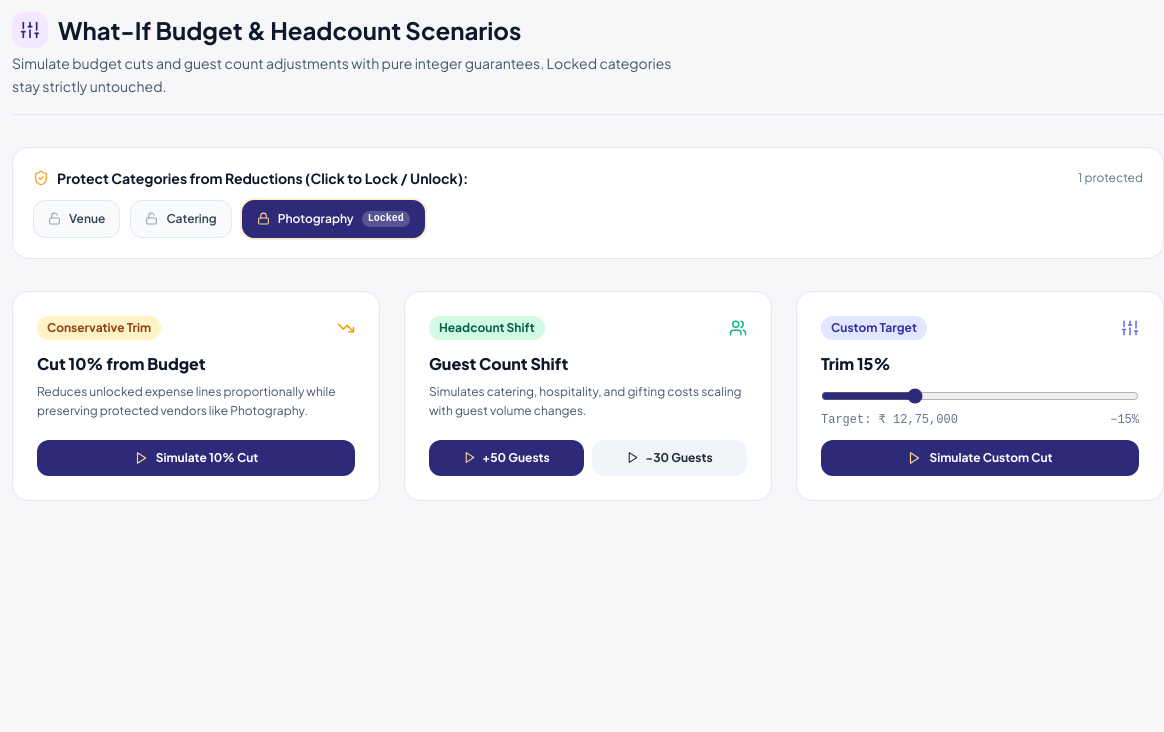
Test case: TabScenarios UI Component › toggles category lock when clicked
Step 1. Click the button "Venue" → (77, 218), box [33, 200, 120, 238]
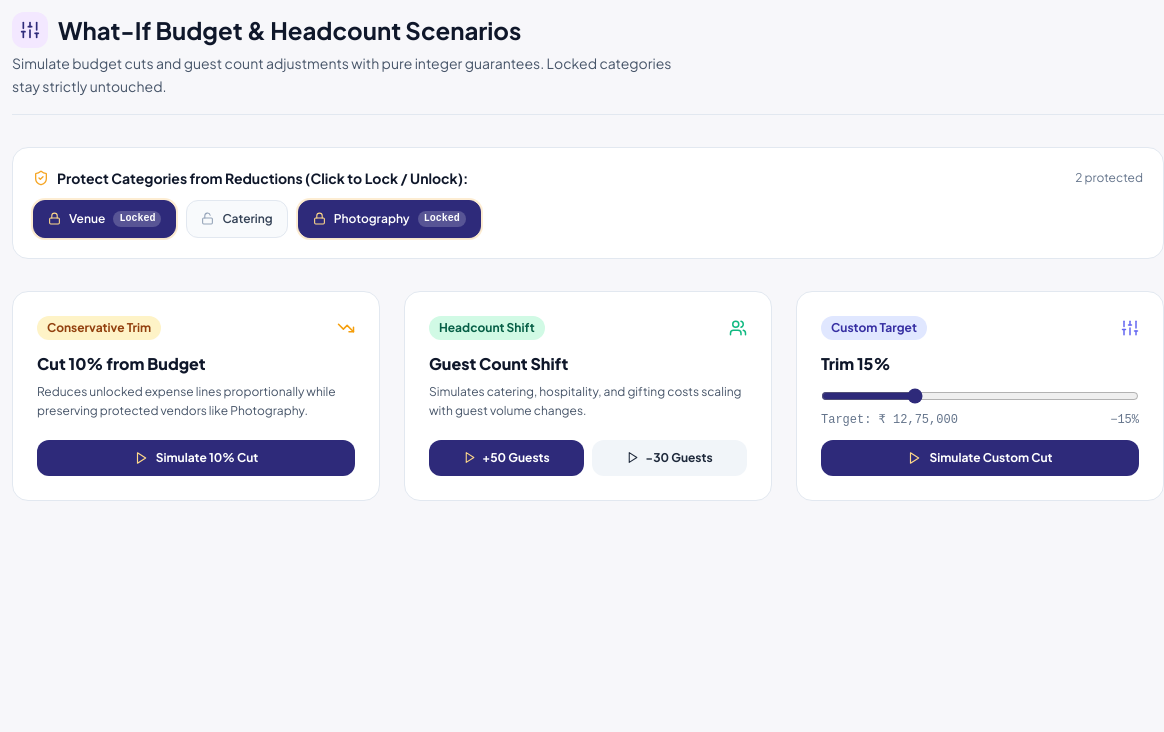
expect the button "Venue Locked" is shown: met, box [33, 200, 176, 238]
